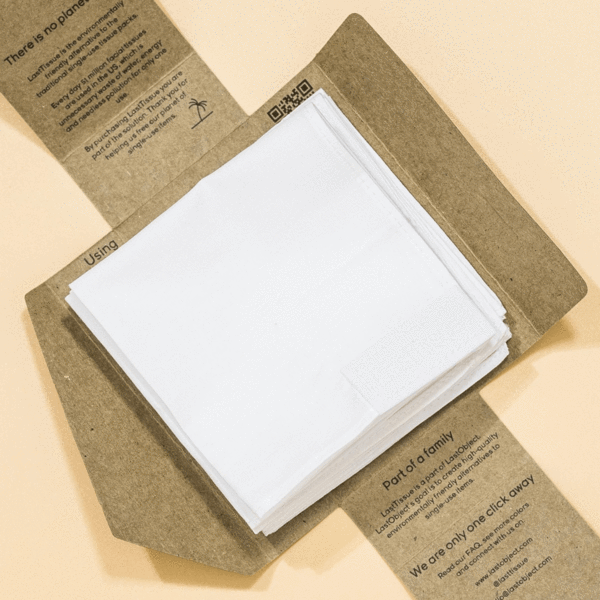Tissue: (64, 84, 513, 539)
